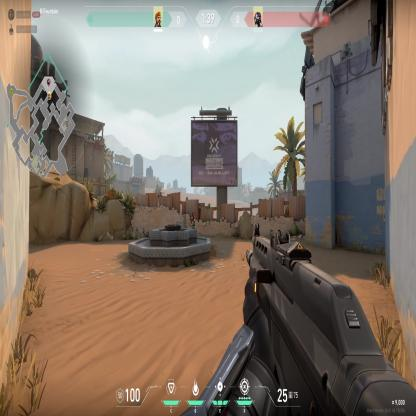enemy: (190, 211, 196, 228)
